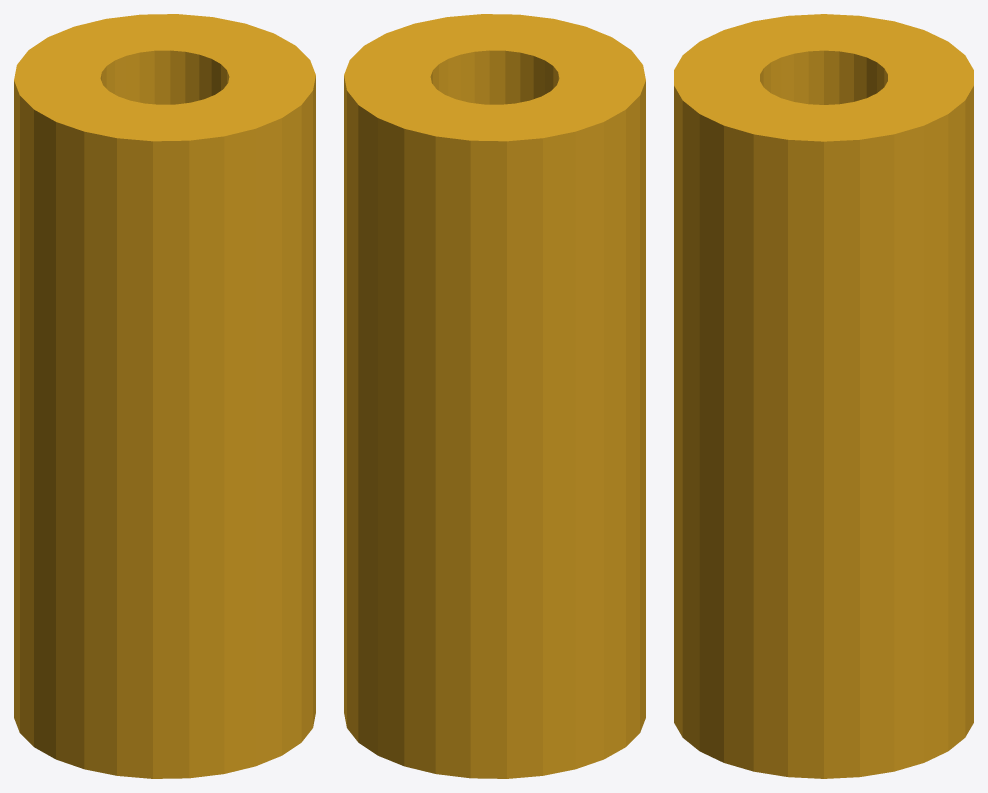
The model's file is TDJ-25-P-50011-STANCHION.glb.
3 views of the same model, side by side, from view 1: azimuth 30°, elevation 25°; view 2: azimuth 150°, elevation 25°; view 3: azimuth 270°, elevation 25° (orthographic).
Bounding box in the file's own units: 9.52 × 22.17 × 9.46.
